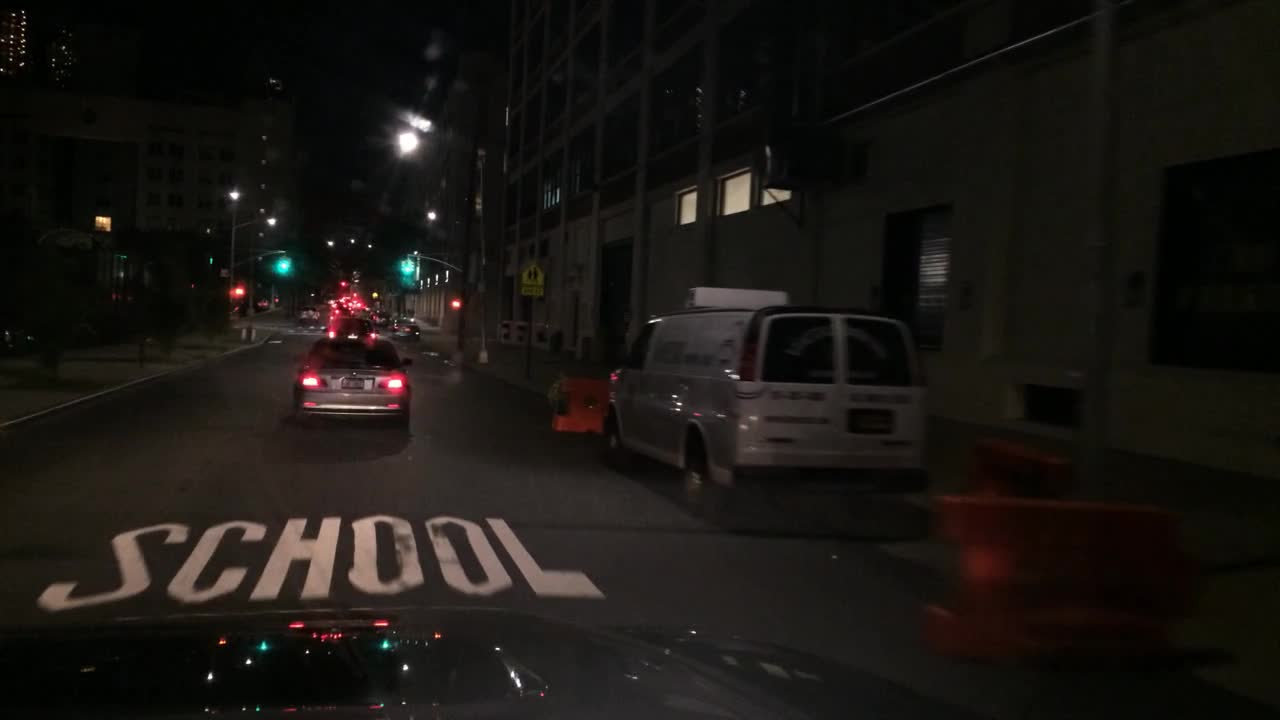car: (595, 284, 933, 527), (291, 332, 415, 433), (320, 316, 377, 338), (392, 318, 421, 342), (326, 304, 351, 322), (297, 304, 317, 322), (377, 313, 389, 329), (368, 310, 380, 321)
traffic light: (278, 253, 291, 276), (403, 255, 415, 276), (447, 295, 464, 309), (229, 283, 243, 298), (338, 275, 349, 292)
traffic sign: (518, 260, 546, 295)
